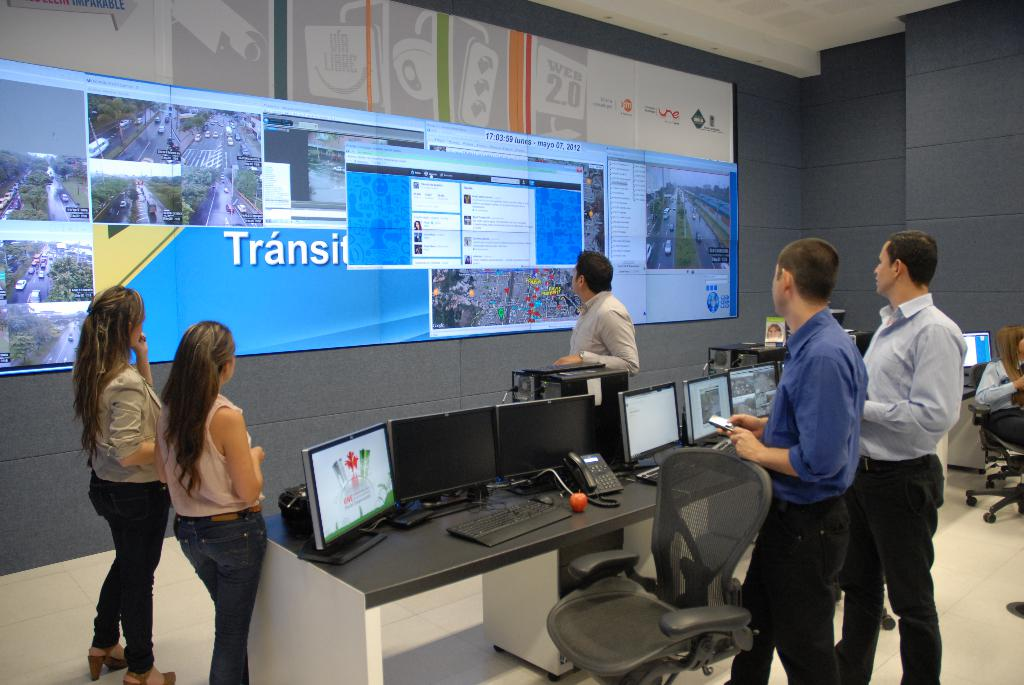Footwear: (87, 640, 126, 681), (117, 668, 178, 684)
